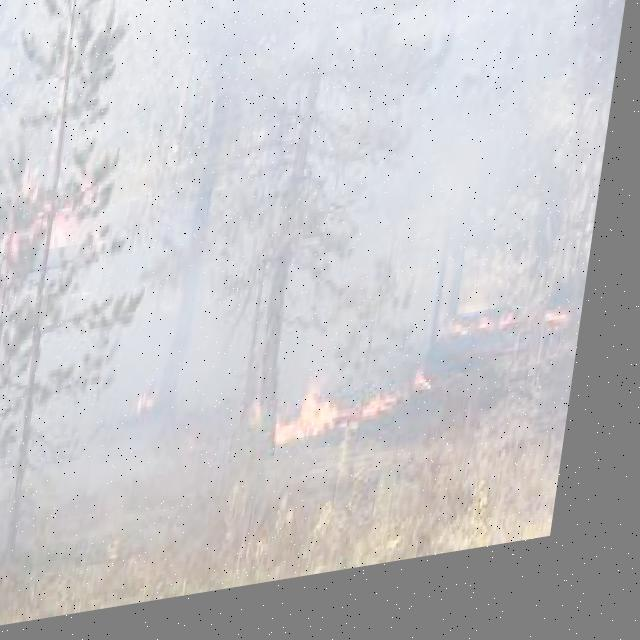Fire: (2, 147, 134, 290), (268, 373, 453, 463), (450, 312, 596, 374)
